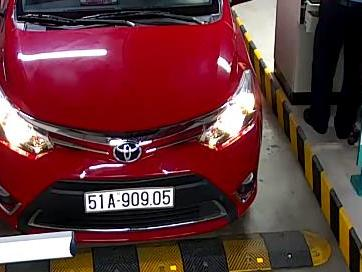number: (85, 188, 173, 211)
